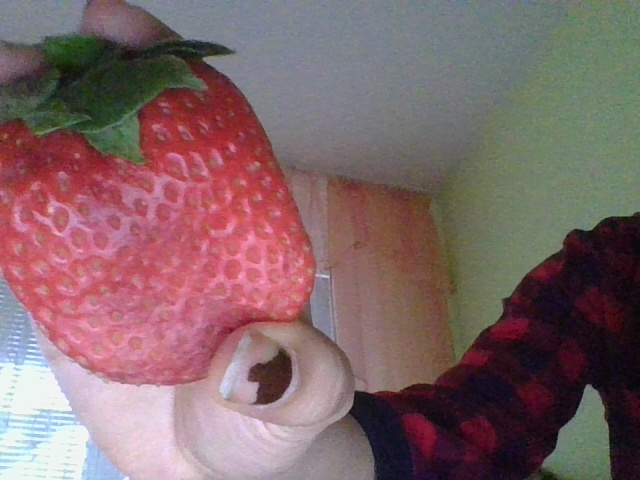ripe: (1, 48, 319, 389)
